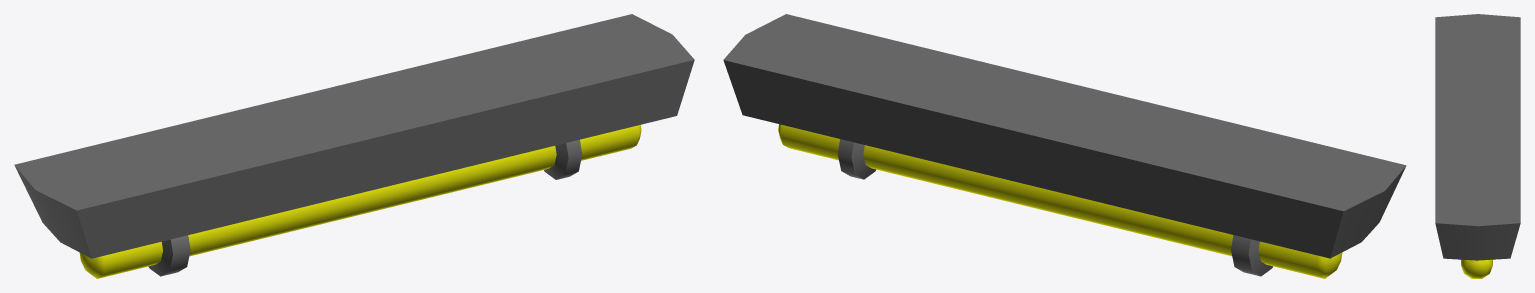
The model's file is Bar_Lamp.fbx.
3 views of the same model, side by side, from view 1: azimuth 30°, elevation 25°; view 2: azimuth 150°, elevation 25°; view 3: azimuth 270°, elevation 25° (orthographic). The views are drawn at different scales.
Parts seen in each view (by area): view 1: Bar_Lamp; view 2: Bar_Lamp; view 3: Bar_Lamp.
Boxes of the visible parts, box(x1,y1,x2,y2) form: Bar_Lamp: box(14, 14, 694, 278); Bar_Lamp: box(723, 14, 1406, 278); Bar_Lamp: box(1435, 14, 1520, 278).
Size of the model in its own units: 84.22 by 14 by 14.33.
